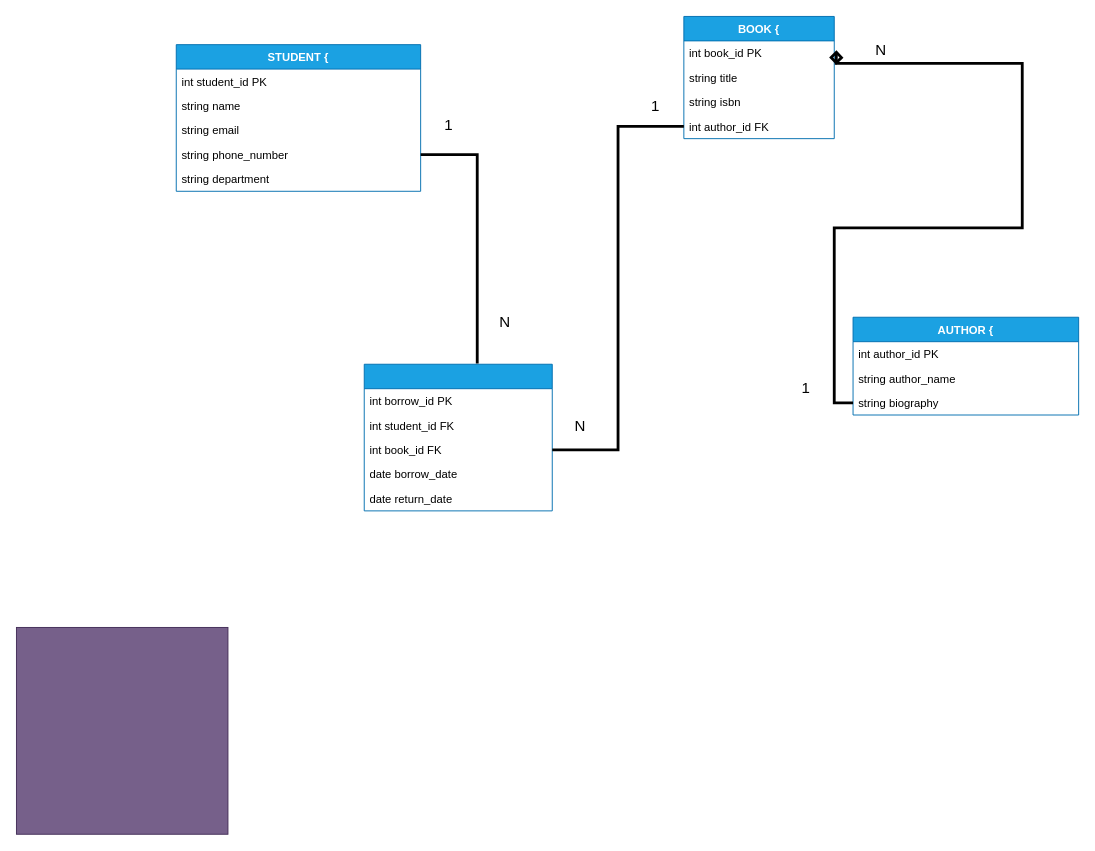
Some shapes in this 1095 by 851 pixel diagram are drawn without their labels. Each missing label, with the box of its shape:
BORROWING {: (363, 363, 552, 511)
Legend PK = Primary Key FK = Foreign Key 1 = One N = Many Line = Relationship: (16, 627, 228, 834)
